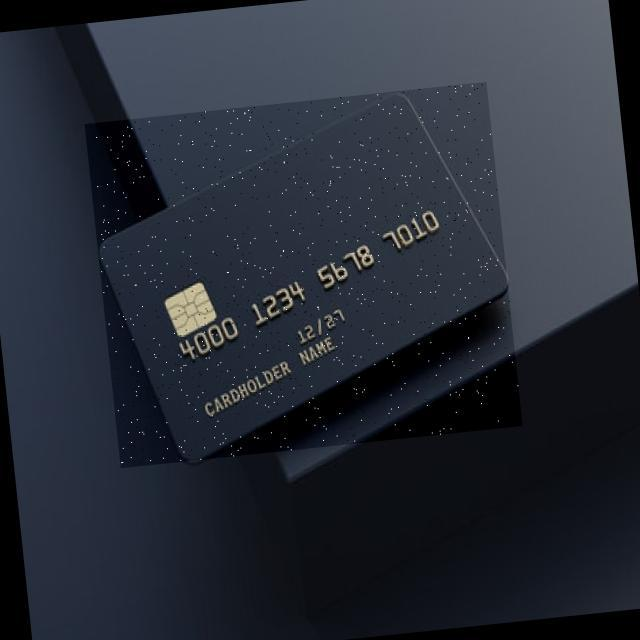payment_card: (91, 80, 515, 466)
